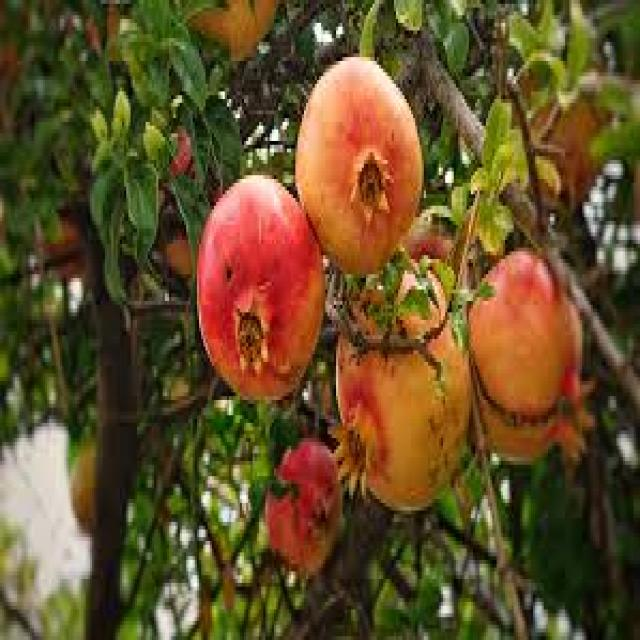overripe: (334, 274, 475, 517), (191, 170, 325, 404), (295, 51, 426, 274), (472, 247, 592, 470), (262, 436, 343, 584)
